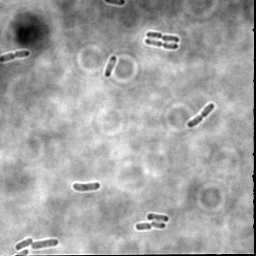Dividing: (185, 101, 216, 130), (143, 37, 180, 51), (145, 30, 180, 44), (1, 48, 31, 63), (133, 220, 166, 232)
Rod: (71, 180, 101, 193), (30, 237, 59, 250), (103, 54, 118, 78), (13, 236, 34, 252), (145, 212, 170, 223)
